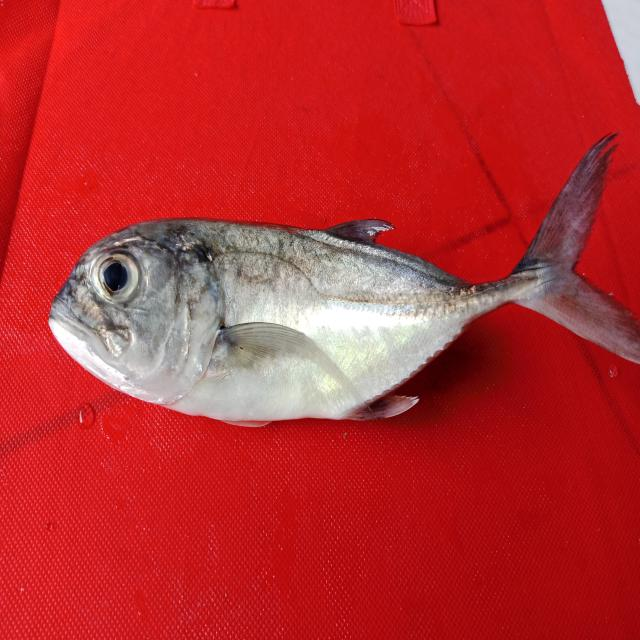ikan: (32, 121, 630, 442)
